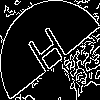H: (25, 24, 74, 84)
